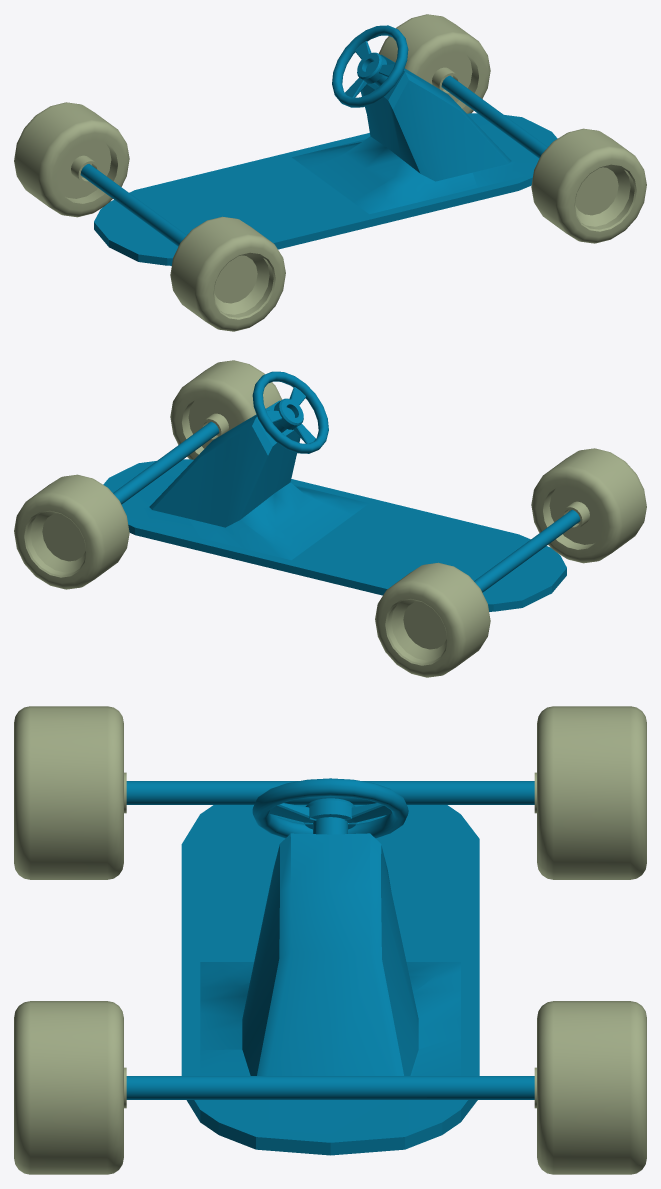
File: Kart1 Rev1.fbx
The picture shows the model from 3 angles, top to bottom: view 1: azimuth 30°, elevation 25°; view 2: azimuth 150°, elevation 25°; view 3: azimuth 270°, elevation 25°; orthographic projection. The views are drawn at different scales.
Visible parts, largest first — view 1: Kart2; view 2: Kart2; view 3: Kart2.
Boxes of the visible parts, box(x1,y1,x2,y2) form: Kart2: box(14, 14, 646, 331); Kart2: box(14, 360, 646, 677); Kart2: box(14, 706, 646, 1174).
Bounding box in the file's own units: 100 × 36.99 × 72.59.
